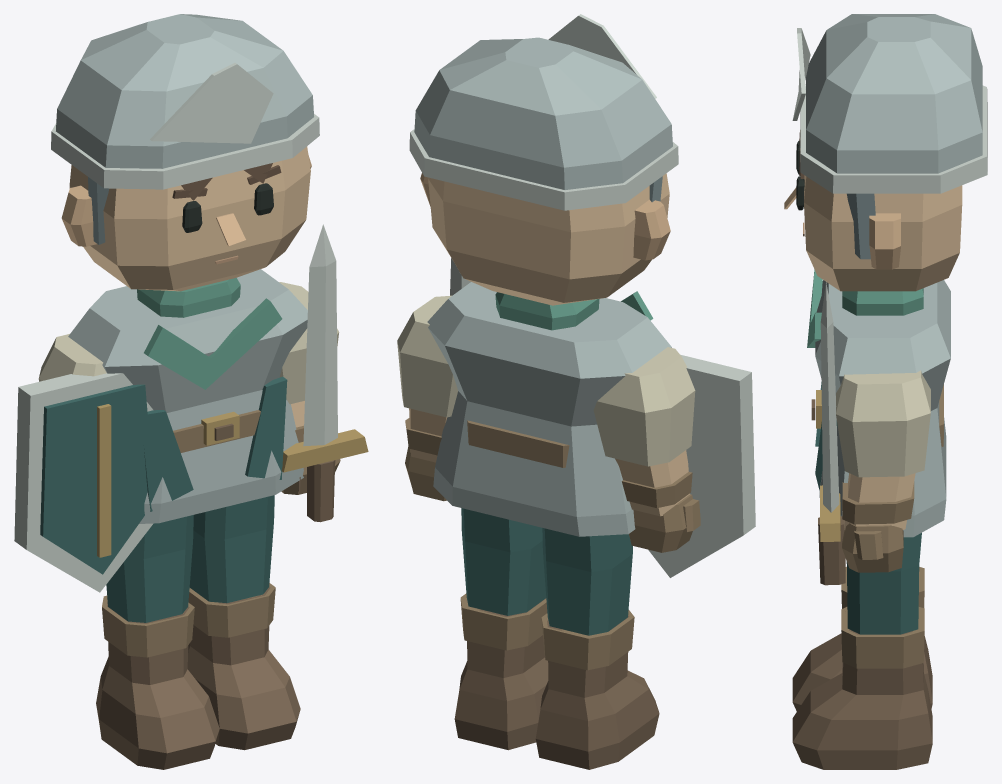
File: guard.glb
3 renders of one model, left to right at view 1: azimuth 30°, elevation 25°; view 2: azimuth 150°, elevation 25°; view 3: azimuth 270°, elevation 25°, orthographic.
Visible parts, largest first — view 1: Helmet plate shell, Tunic tailored body, Sculpted jaw cheeks forehead, Shield face, Boot shaped ankle and toe L, Boot shaped ankle and toe R, Shield rim, Trouser R, Trouser L, Sword blade, Helmet crown plane, Helmet brow rim (+16 smaller); view 2: Tunic tailored body, Helmet plate shell, Sculpted jaw cheeks forehead, Shield rim, Boot shaped ankle and toe L, Sleeve L, Boot shaped ankle and toe R, Trouser L, Trouser R, Helmet brow rim, Sleeve R, Boot cuff L (+11 smaller); view 3: Helmet plate shell, Boot shaped ankle and toe R, Tunic tailored body, Sculpted jaw cheeks forehead, Sleeve R, Trouser R, Helmet brow rim, Boot cuff R, Sword blade, Boot shaped ankle and toe L, Glove palm R, Raised collar (+10 smaller).
Part boxes in pixels (x1,y1,x2,y2): Helmet plate shell: [56, 14, 313, 168]; Tunic tailored body: [68, 269, 307, 523]; Sculpted jaw cheeks forehead: [69, 146, 310, 291]; Shield face: [40, 384, 147, 574]; Boot shaped ankle and toe L: [96, 602, 219, 769]; Boot shaped ankle and toe R: [187, 587, 300, 750]; Shield rim: [14, 373, 153, 592]; Trouser R: [189, 495, 274, 603]; Trouser L: [106, 515, 193, 622]; Sword blade: [303, 224, 337, 446]; Helmet crown plane: [150, 63, 273, 143]; Helmet brow rim: [51, 114, 319, 189]; Tunic tailored body: [427, 282, 671, 536]; Helmet plate shell: [414, 37, 672, 189]; Sculpted jaw cheeks forehead: [428, 173, 669, 305]; Shield rim: [648, 354, 755, 577]; Boot shaped ankle and toe L: [535, 615, 659, 769]; Sleeve L: [593, 347, 695, 466]; Boot shaped ankle and toe R: [454, 598, 548, 750]; Trouser L: [542, 528, 632, 635]; Trouser R: [461, 508, 546, 615]; Helmet brow rim: [409, 129, 678, 210]; Sleeve R: [397, 295, 457, 417]; Boot cuff L: [541, 610, 634, 670]; Helmet plate shell: [806, 14, 982, 173]; Boot shaped ankle and toe R: [792, 611, 932, 769]; Tunic tailored body: [815, 280, 950, 537]; Sculpted jaw cheeks forehead: [804, 175, 962, 291]; Sleeve R: [836, 370, 930, 477]; Trouser R: [846, 533, 921, 634]; Helmet brow rim: [800, 85, 987, 193]; Boot cuff R: [841, 607, 924, 668]; Sword blade: [820, 281, 839, 512]; Boot shaped ankle and toe L: [792, 633, 932, 711]; Glove palm R: [842, 523, 903, 572]; Raised collar: [842, 288, 923, 315].
Bounding box in the file's own units: 0.87 × 1.71 × 0.449.
